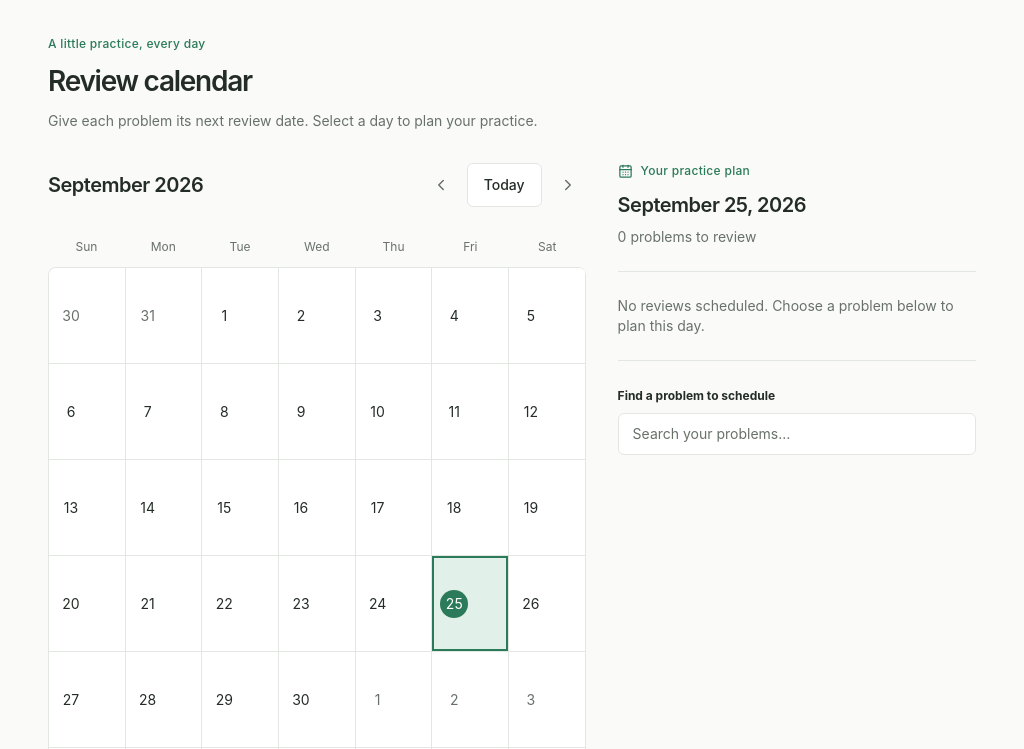
Test: schedules a searched problem on the selected day
Type "coin" into the search field.
click(797, 434); type("coin")  # box [618,413,976,455]
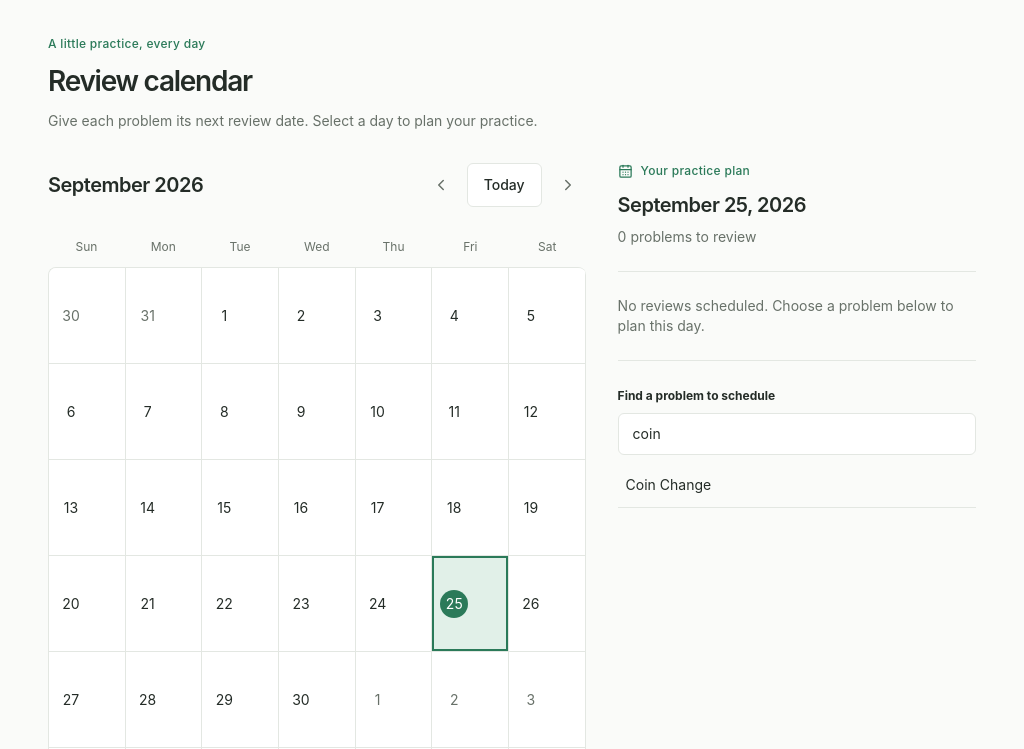
Note: Search result plus the backlog's open-problem button.
Click the button "Coin Change".
click(668, 484)  # box [618,463,976,508]
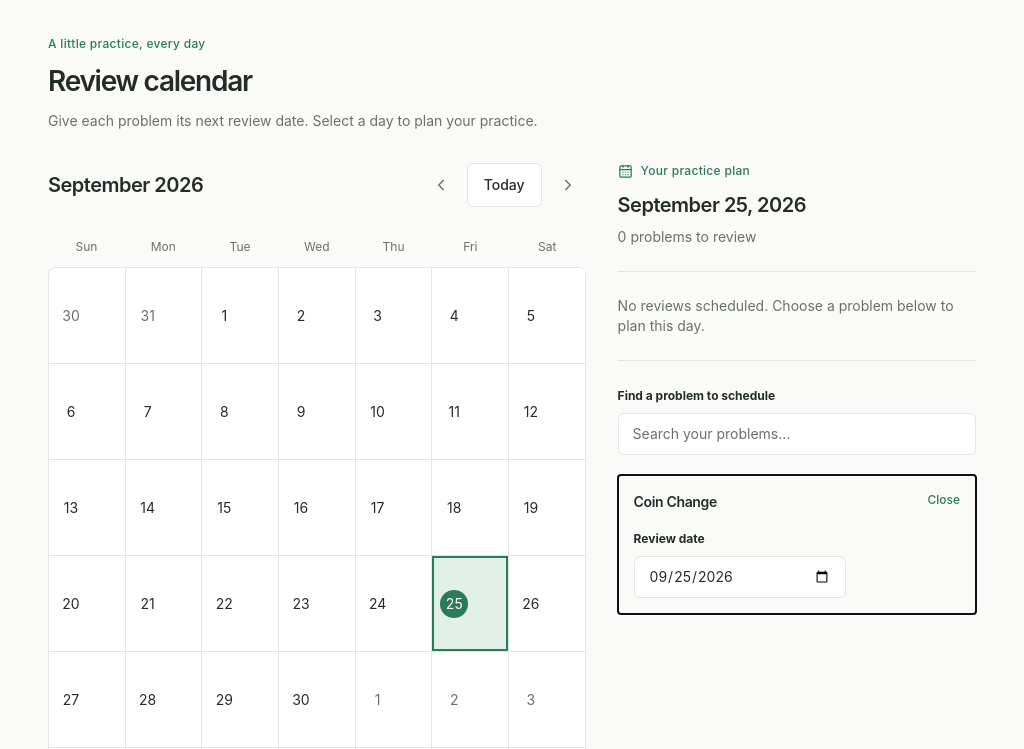
Leave the date field labelled "Review date", box [634,556,846,598]
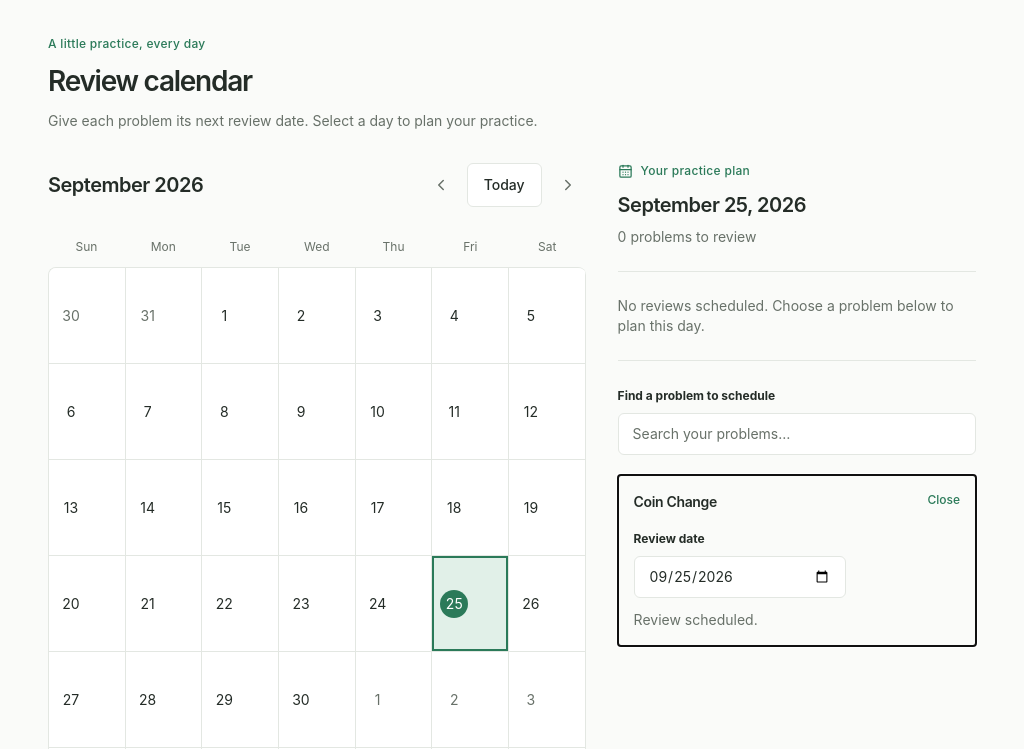
Result: the message reads "Review scheduled." at [634,611,758,628]
